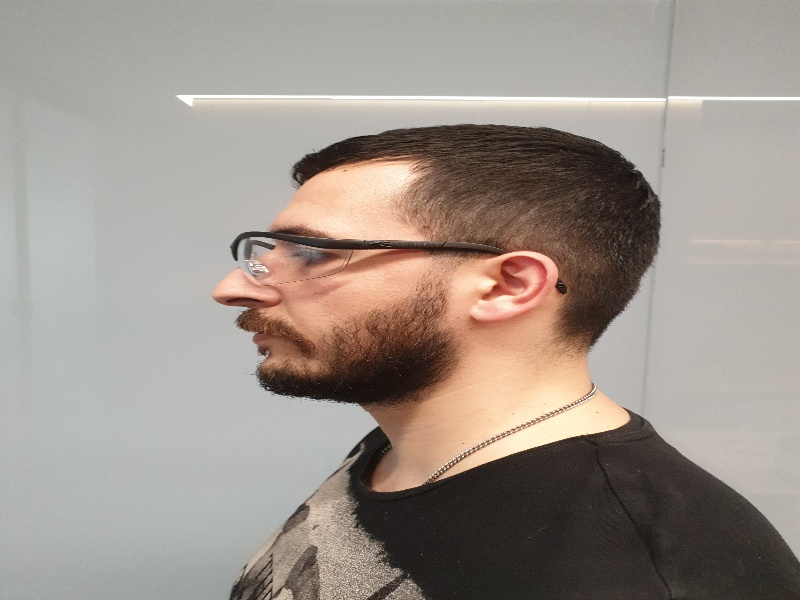Gozluk: (232, 231, 514, 280)
